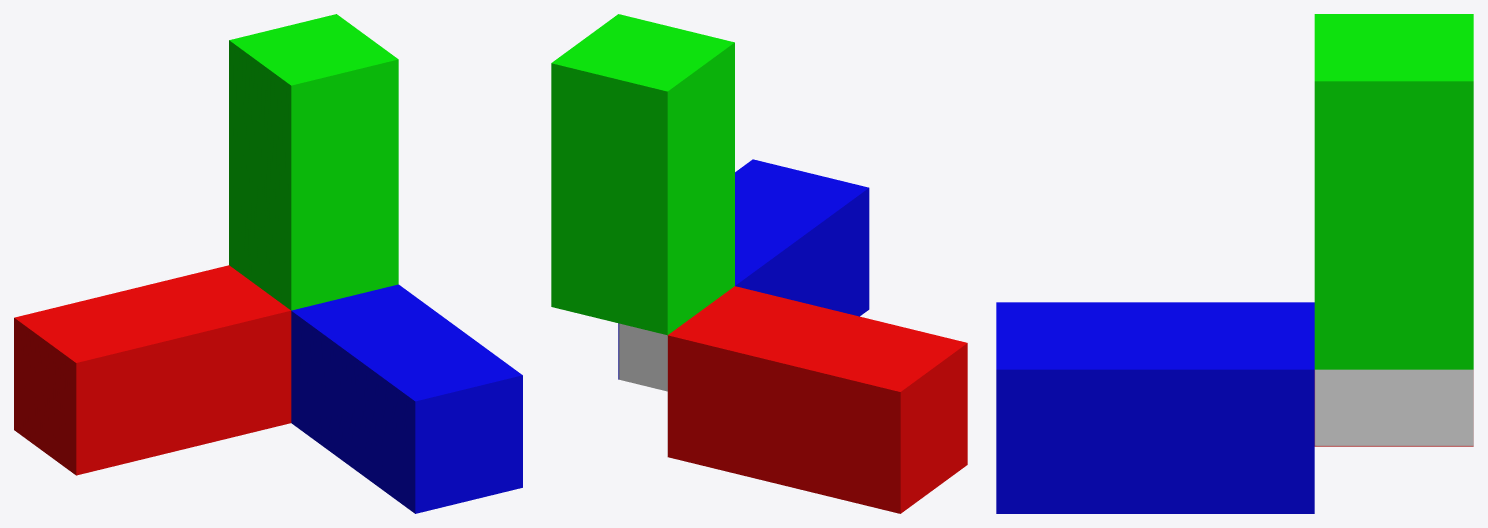
The model's file is axisIndicator.obj.
3 views of the same model, side by side, from view 1: azimuth 30°, elevation 25°; view 2: azimuth 150°, elevation 25°; view 3: azimuth 270°, elevation 25° (orthographic). The views are drawn at different scales.
Parts seen in each view (by area): view 1: 立方体.001; view 2: 立方体.001; view 3: 立方体.001.
Part boxes in pixels (x1=…): 立方体.001: x1=14, y1=14, x2=522, y2=513; 立方体.001: x1=551, y1=14, x2=967, y2=513; 立方体.001: x1=996, y1=14, x2=1473, y2=513.
Bounding box in the file's own units: 2 × 2 × 2.
Materials: 1 (1 with a texture image).
